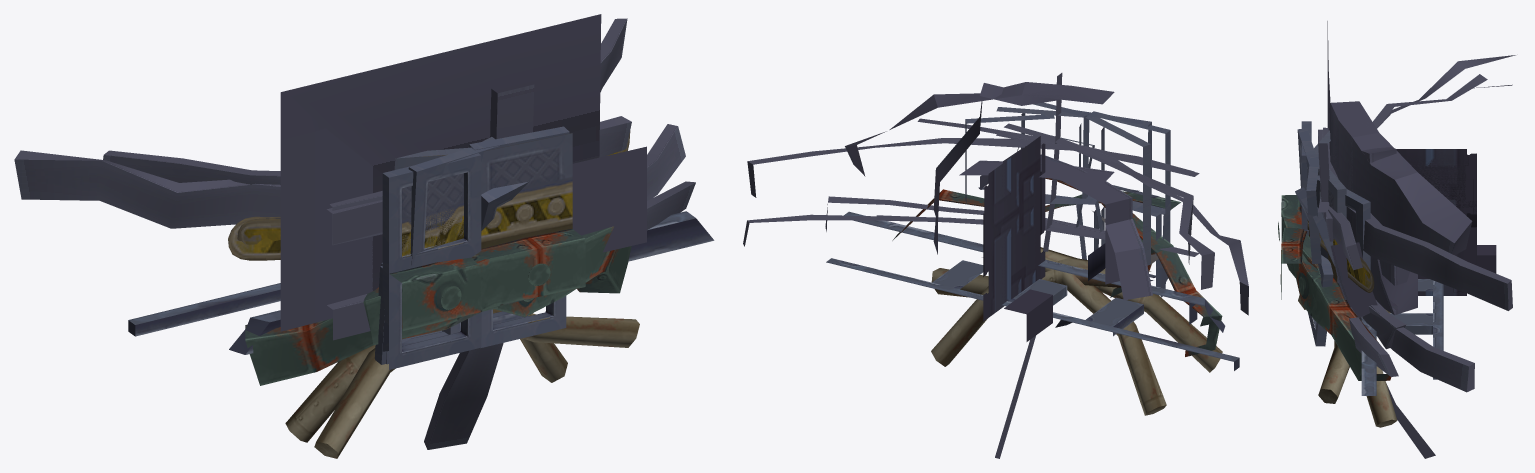
The model's file is edge_busted_set.glb.
3 renders of one model, left to right at view 1: azimuth 30°, elevation 25°; view 2: azimuth 150°, elevation 25°; view 3: azimuth 270°, elevation 25°, orthographic. The views are drawn at different scales.
Parts seen in each view (by area): view 1: rsrc.world.tileset.clockworks_poison.edge_rail.edge_busted_s (×30); view 2: rsrc.world.tileset.clockworks_poison.edge_rail.edge_busted_s (×31); view 3: rsrc.world.tileset.clockworks_poison.edge_rail.edge_busted_s (×30).
Boxes of the visible parts, x1=… form: rsrc.world.tileset.clockworks_poison.edge_rail.edge_busted_s (×30): x1=14, y1=14, x2=714, y2=458; rsrc.world.tileset.clockworks_poison.edge_rail.edge_busted_s (×31): x1=743, y1=73, x2=1248, y2=458; rsrc.world.tileset.clockworks_poison.edge_rail.edge_busted_s (×30): x1=1280, y1=21, x2=1515, y2=458.
Bounding box in the file's own units: 6.98 × 4.79 × 3.
Materials: 9 (9 with a texture image).
